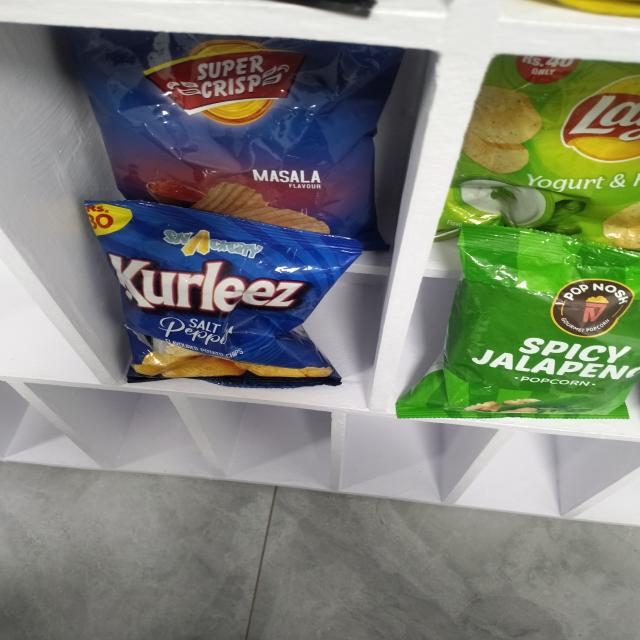Plastic: (66, 30, 395, 204), (414, 235, 638, 416), (93, 234, 354, 386), (454, 54, 640, 224)
